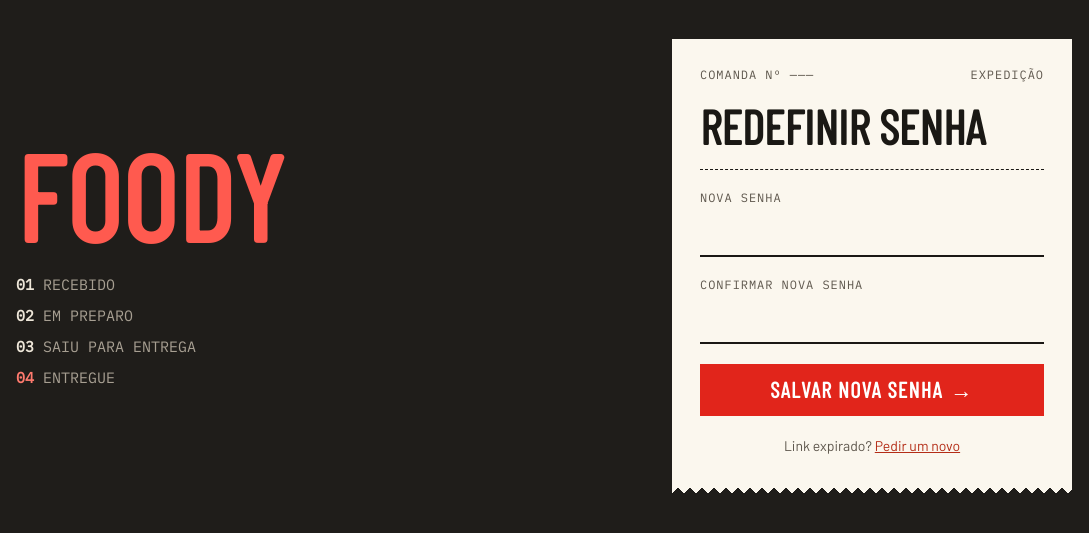
ResetPasswordPage › validates the new password
The image size is (1089, 533).
Type "curta" into the password field labelled "Nova senha". click: x=872, y=235
box: [700,213,1044,257]
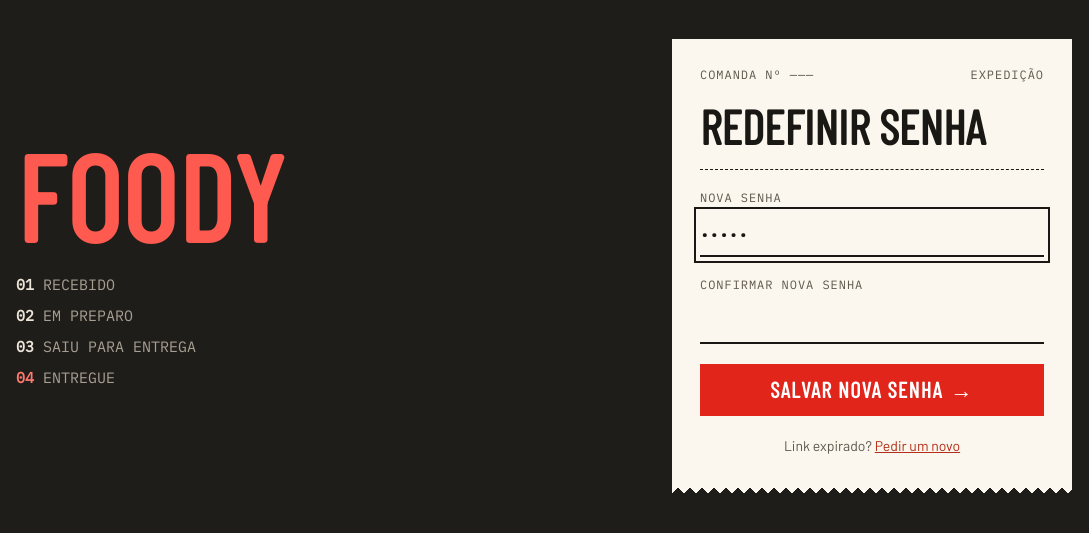
Type "outra" into the password field labelled "Confirmar nova senha". click: x=872, y=322
box: [700,300,1044,344]
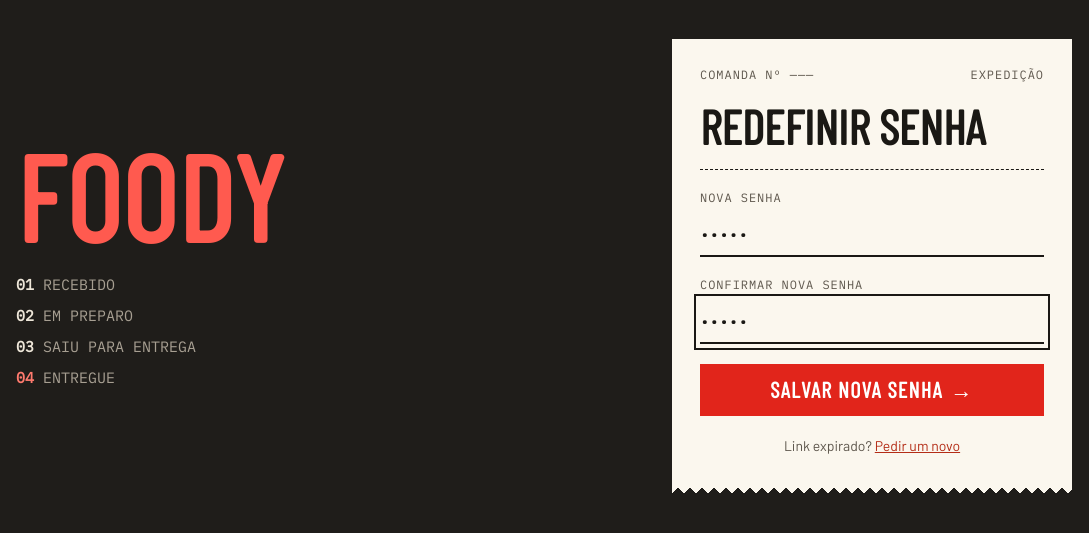
Click the button "Salvar nova senha →". click: x=872, y=390
box: [700,364,1044,416]
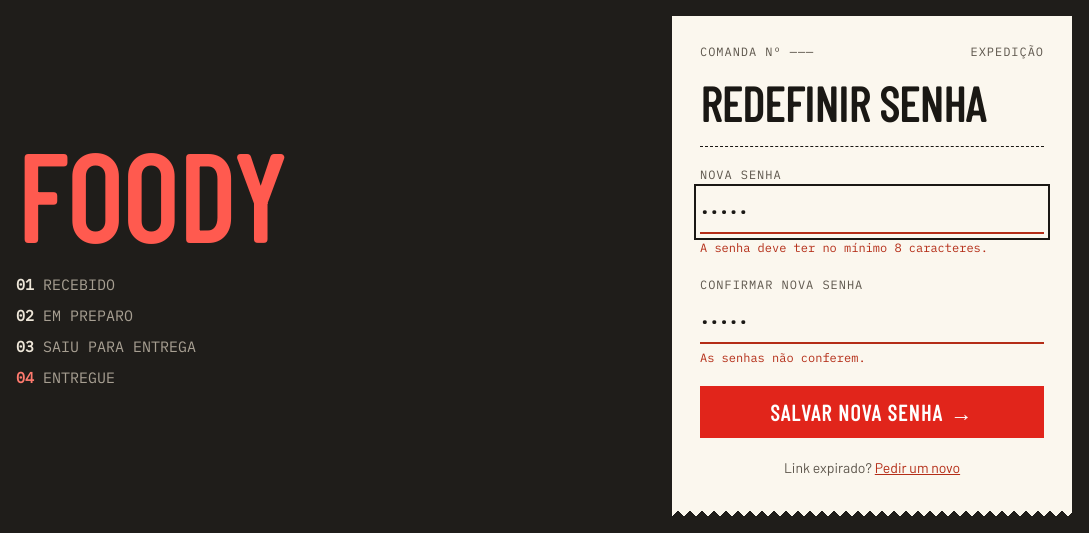
expect the text "A senha deve ter no mínimo 8 caracteres." is shown: met, box [700,240,988,255]
expect the text "As senhas não conferem." is shown: met, box [700,350,866,365]
